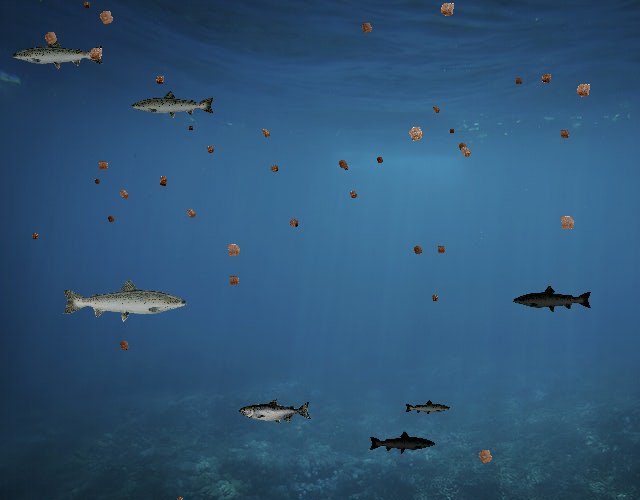Fish: (60, 277, 189, 323), (11, 38, 105, 72), (130, 89, 216, 120), (513, 284, 594, 313), (240, 399, 313, 425), (368, 431, 436, 455), (405, 400, 452, 417)
Pellet: (569, 77, 597, 105), (433, 0, 462, 25), (453, 138, 472, 157), (345, 186, 362, 203), (428, 291, 442, 305), (28, 229, 42, 243)
